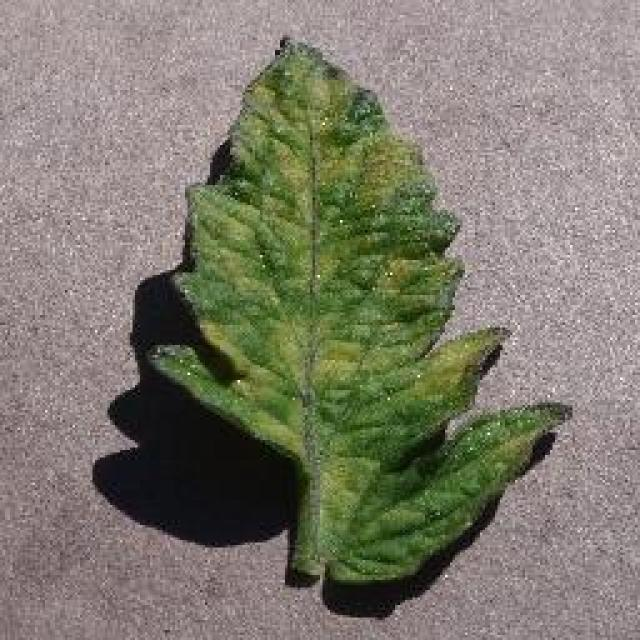Tomato___Leaf_Mold: (148, 40, 562, 582)
